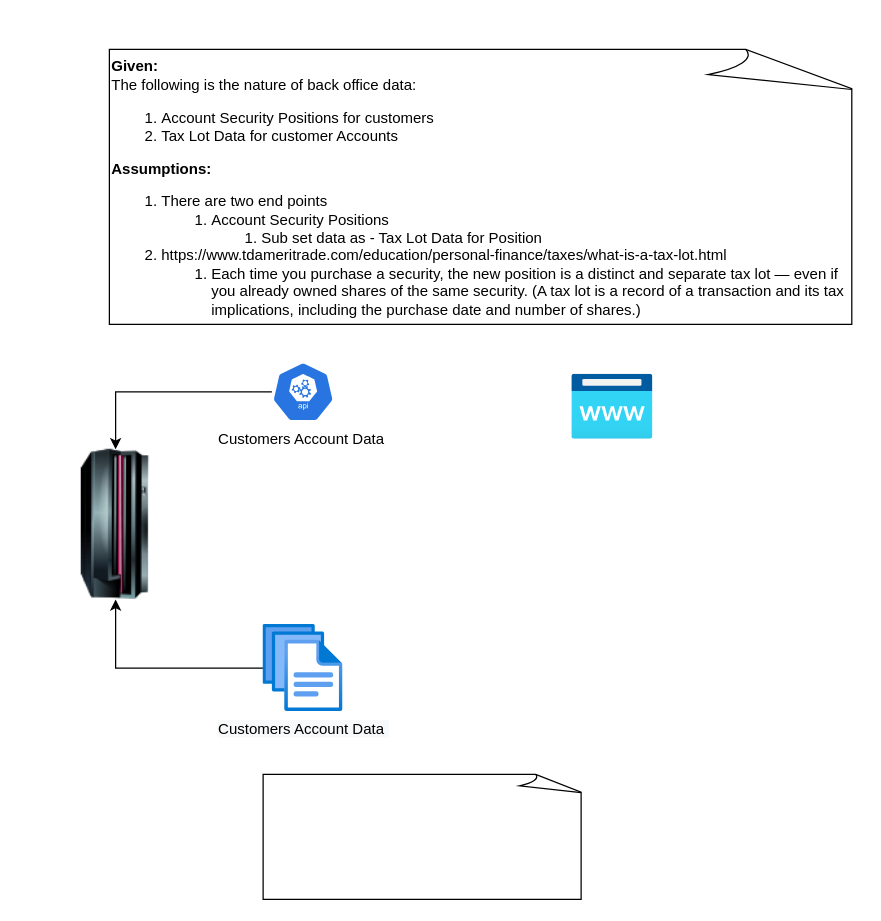
The diagram is 881 pixels wide and 921 high, and some of its shapes have lost their labels. Here are the shapes that lost their labels. From the top down, the box of each, then its label:
(571, 374, 652, 439): XYZ Wealth Management System
(262, 773, 584, 899): Questions: What is the use case of the weekly files?
